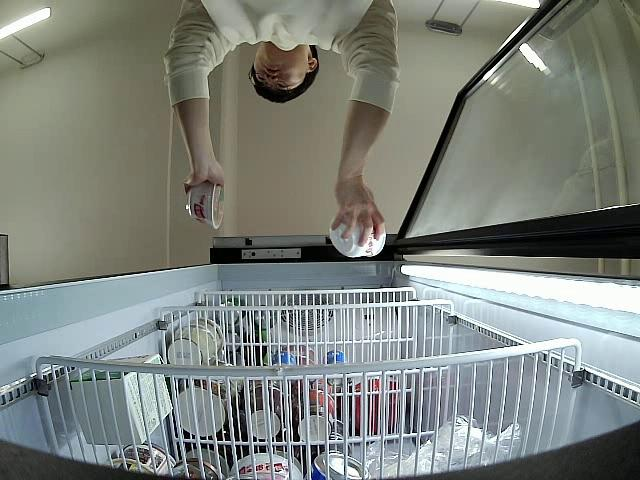00_hand: (329, 179, 386, 251), (181, 159, 226, 195)
09_yukGaeJang: (327, 214, 387, 261), (185, 182, 224, 229)
